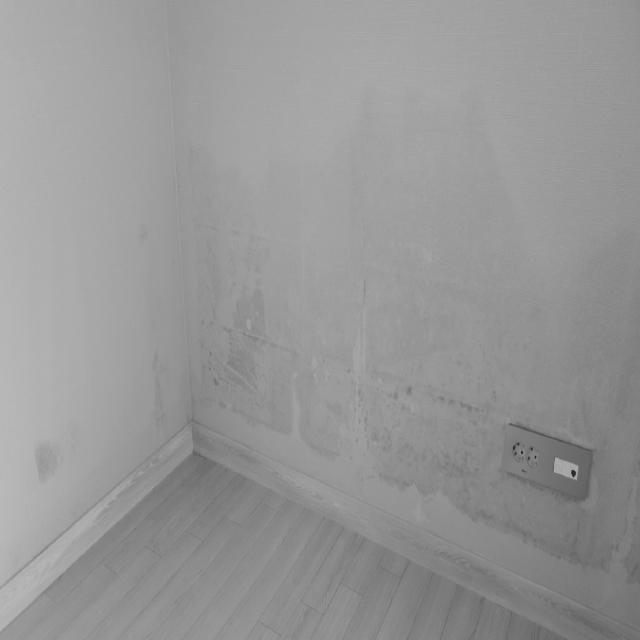stain marks: (193, 157, 636, 570), (136, 232, 168, 440), (30, 428, 72, 483)
